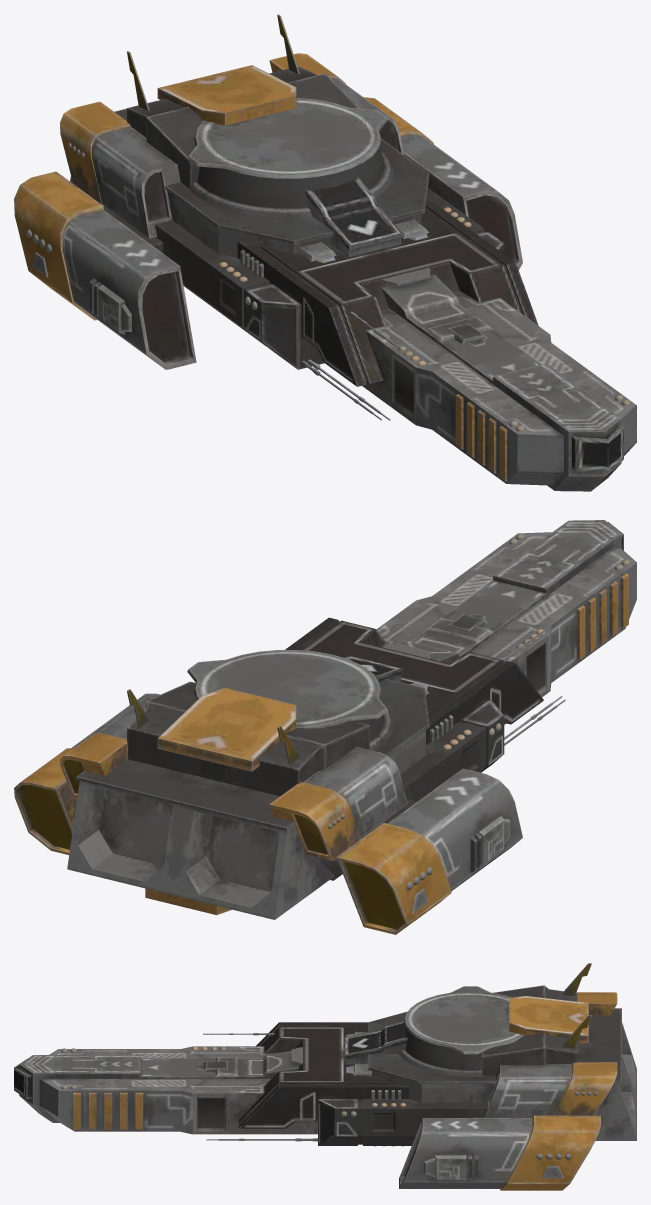
File: insurgent.gltf
3 views of the same model, one above another, from view 1: azimuth 30°, elevation 25°; view 2: azimuth 150°, elevation 25°; view 3: azimuth 270°, elevation 25° (orthographic). The views are drawn at different scales.
Parts seen in each view (by area): view 1: Insurgent; view 2: Insurgent; view 3: Insurgent.
Part boxes in pixels (x1,y1,x2,y2): Insurgent: (14, 14, 636, 491); Insurgent: (14, 520, 636, 934); Insurgent: (14, 963, 636, 1190).
Bounding box in the file's own units: 5.57 × 2.87 × 10.95.
1 material, 1 textured.
